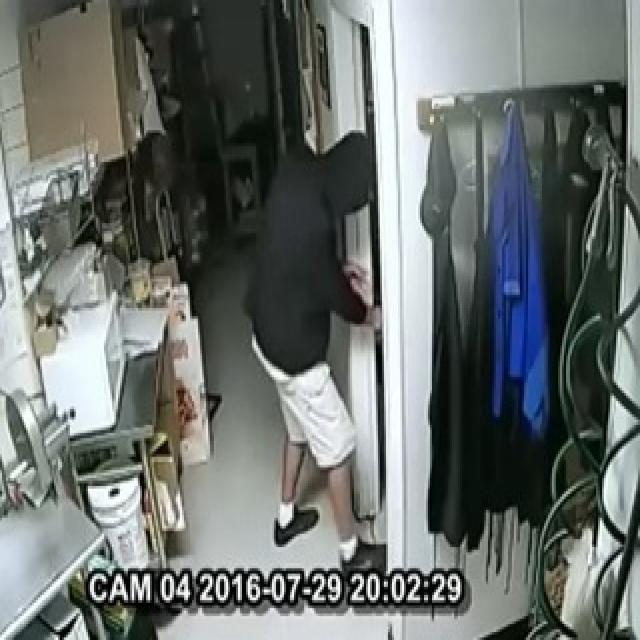thief: (244, 115, 373, 573)
